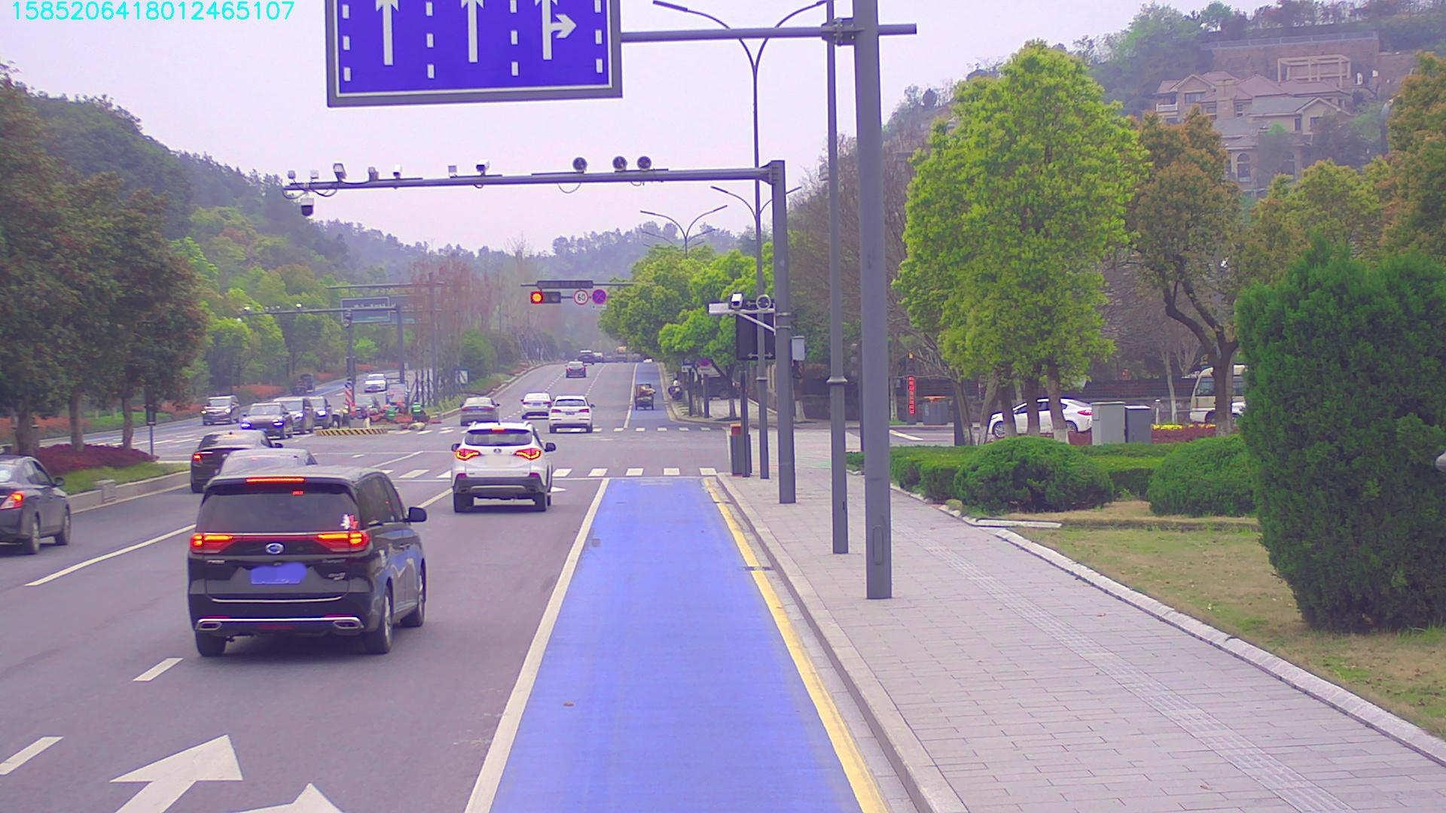red: (529, 288, 561, 309)
